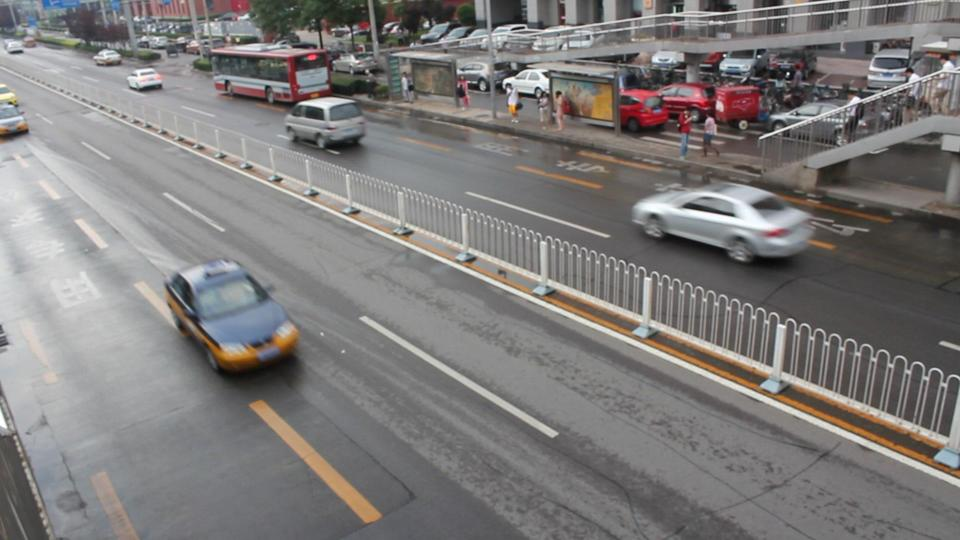Bus: (211, 46, 330, 102)
Car: (164, 257, 298, 372), (633, 181, 814, 262)
Minivan: (285, 96, 367, 148)
